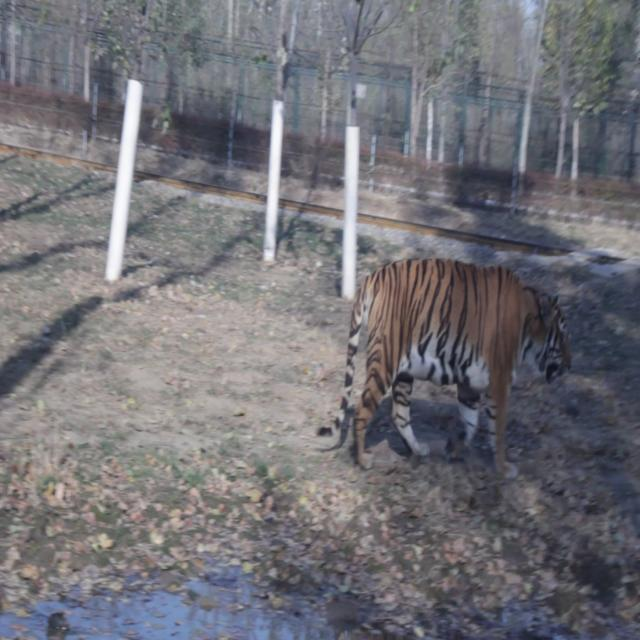Tiger: (322, 208, 579, 487)
